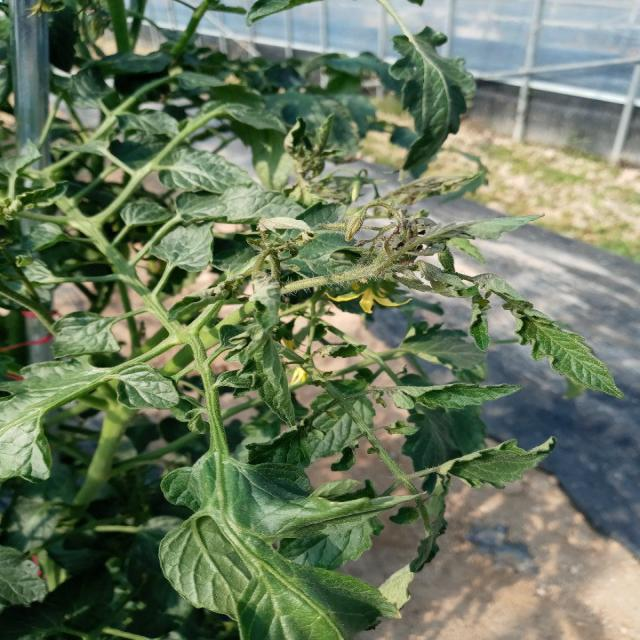Healthy Leaf: (162, 463, 421, 640), (1, 356, 109, 484), (393, 26, 477, 180), (517, 304, 624, 398), (233, 327, 297, 424), (447, 438, 560, 490), (159, 146, 259, 193), (423, 215, 544, 244), (392, 384, 526, 410), (52, 311, 122, 359), (152, 224, 215, 274), (115, 364, 181, 410), (171, 285, 233, 320), (17, 181, 71, 213), (286, 120, 316, 166)
